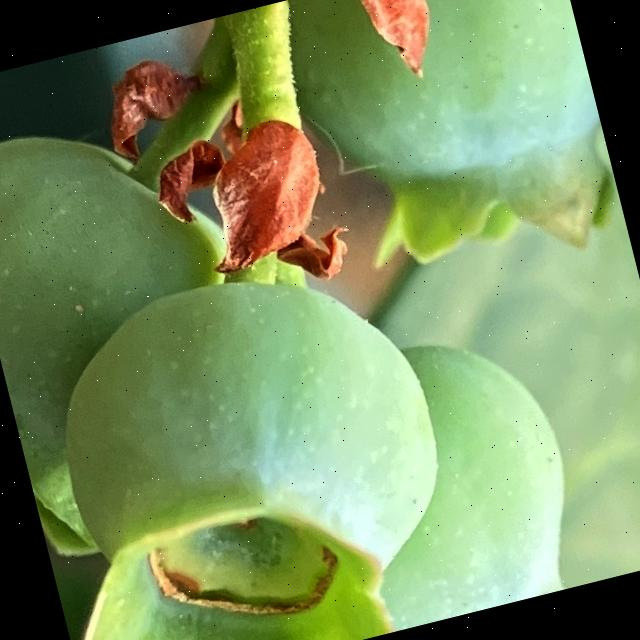Blueberries: (0, 223, 495, 640)
